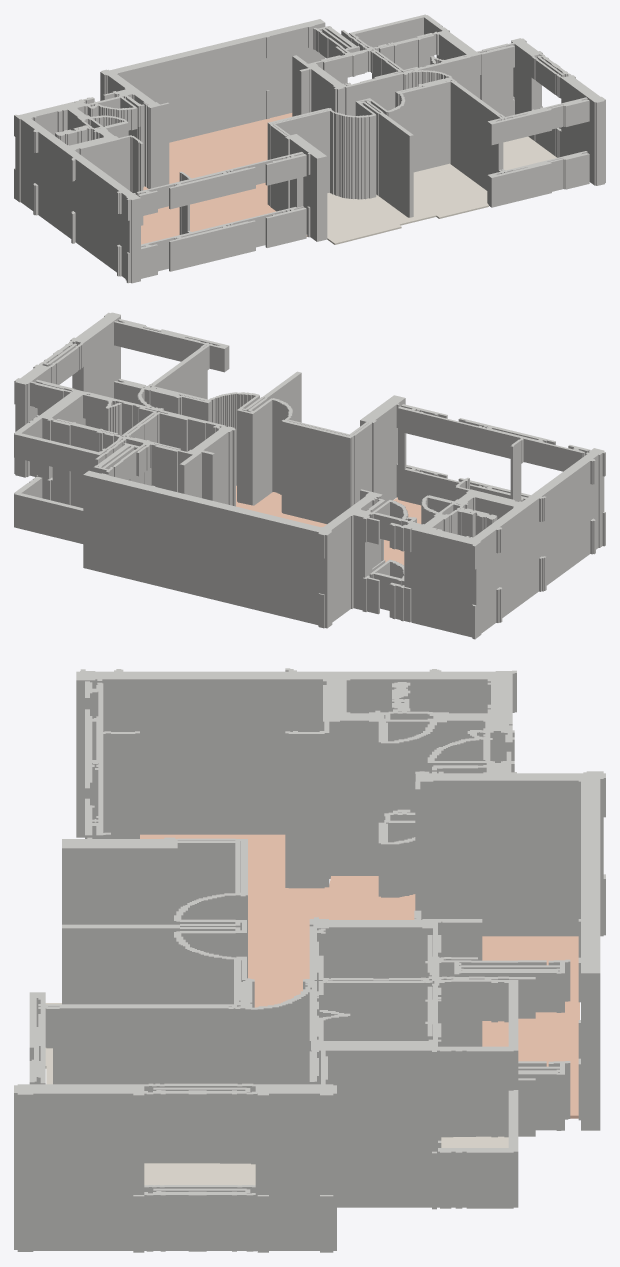
3 views of the same model, one above another, from view 1: azimuth 30°, elevation 25°; view 2: azimuth 150°, elevation 25°; view 3: azimuth 270°, elevation 25° (orthographic). The views are drawn at different scales.
Parts seen in each view (by area): view 1: walls, room:kitchen:0, room:other:7, room:other:6; view 2: walls, room:kitchen:0; view 3: walls, room:kitchen:0, room:other:6, room:other:2.
Boxes of the visible parts, box(x1,y1,x2,y2) form: walls: box(14, 14, 605, 283); room:kitchen:0: box(141, 113, 307, 244); room:other:7: box(327, 163, 488, 244); room:other:6: box(503, 136, 556, 170); walls: box(14, 312, 605, 639); room:kitchen:0: box(236, 485, 421, 565); walls: box(14, 668, 605, 1252); room:kitchen:0: box(140, 834, 579, 1118); room:other:6: box(144, 1163, 255, 1185); room:other:2: box(441, 1136, 508, 1147).
Bounding box in the file's own units: 16.3 × 2.8 × 9.55.
